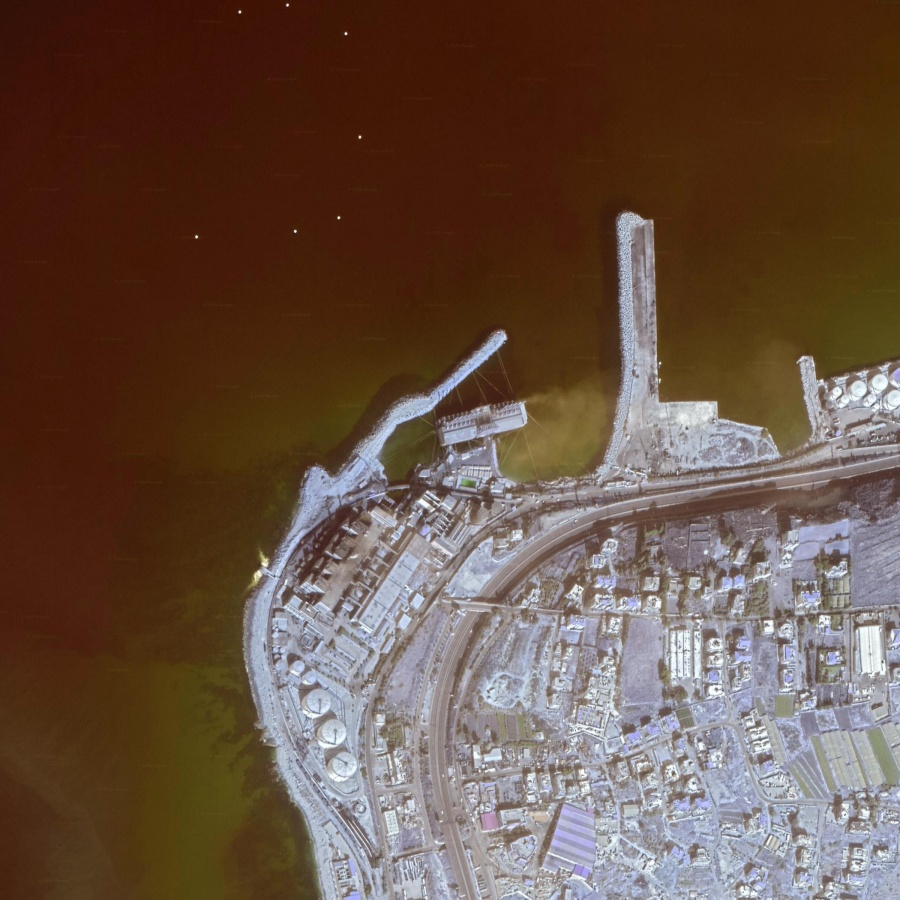PowerPlant: (235, 388, 531, 786)
